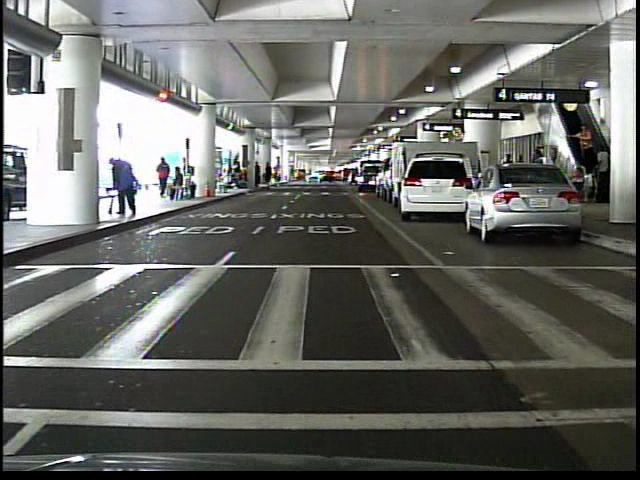person: (108, 151, 141, 220), (572, 120, 597, 169), (592, 143, 612, 195)
